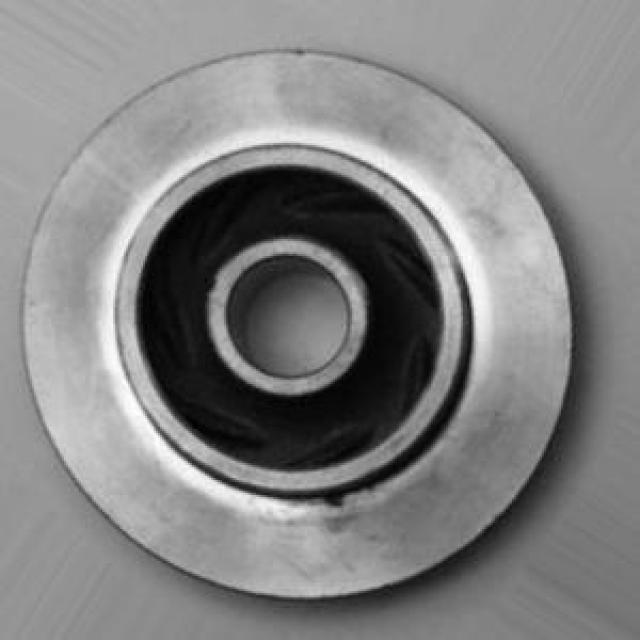Defect: (312, 483, 358, 516)
